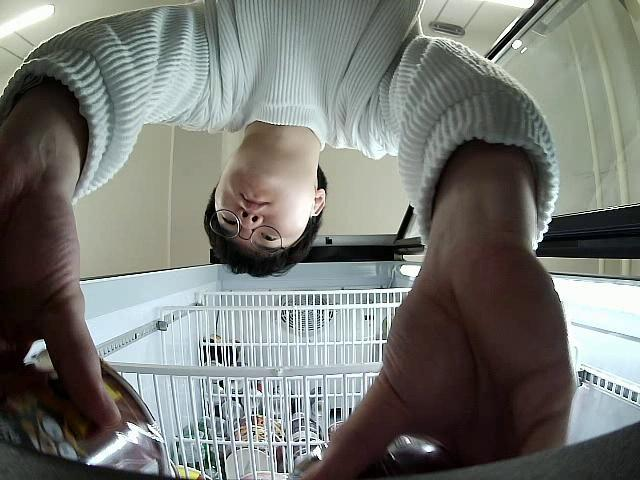06_nuguri_S: (0, 347, 171, 480)
